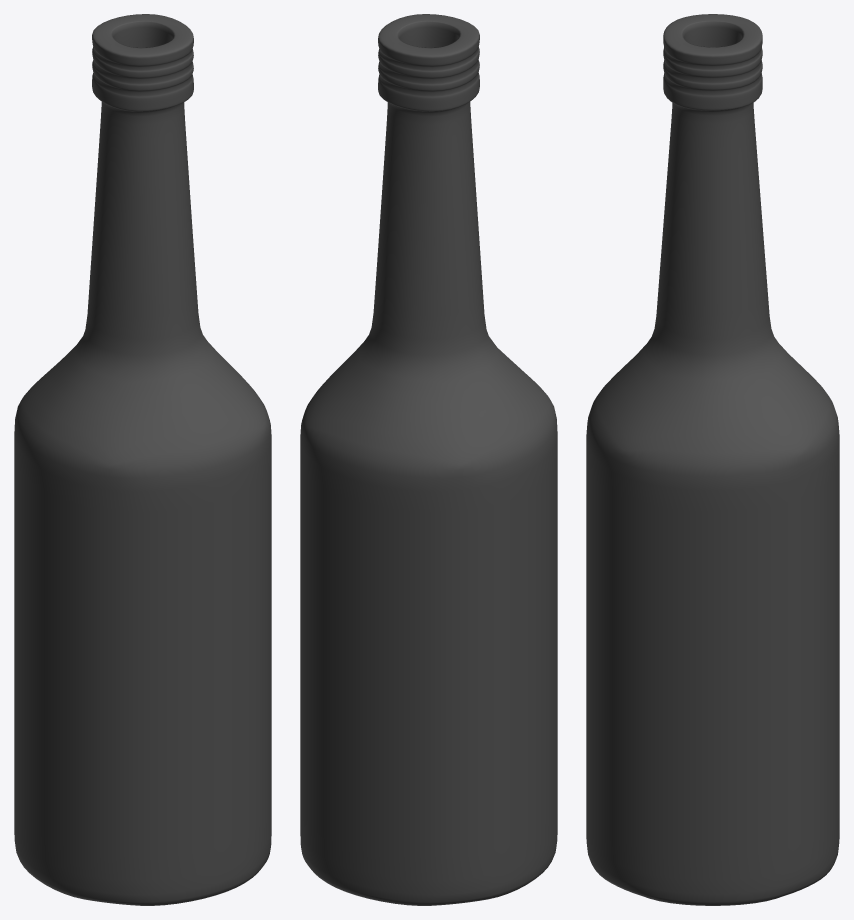
File: Bottle.fbx
3 renders of one model, left to right at view 1: azimuth 30°, elevation 25°; view 2: azimuth 150°, elevation 25°; view 3: azimuth 270°, elevation 25°, orthographic.
Parts seen in each view (by area): view 1: Bottle1; view 2: Bottle1; view 3: Bottle1.
Part boxes in pixels (left/top/right/bottom): Bottle1: left=14, top=14, right=271, bottom=905; Bottle1: left=300, top=14, right=557, bottom=905; Bottle1: left=586, top=14, right=839, bottom=905.
Size of the model in its own units: 1.53 by 5.48 by 1.53.
